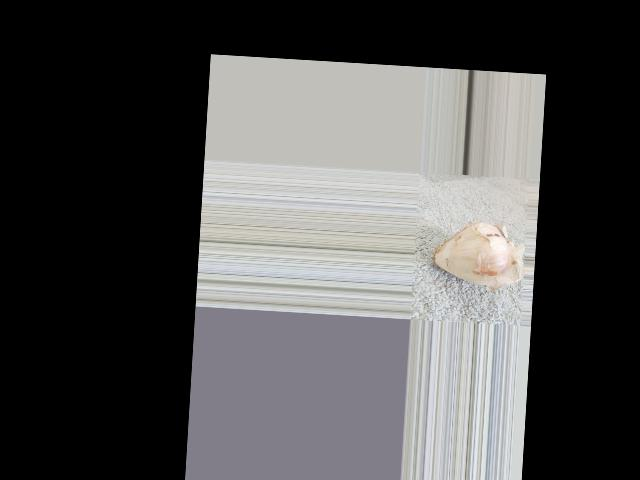onion: (430, 218, 508, 282)
